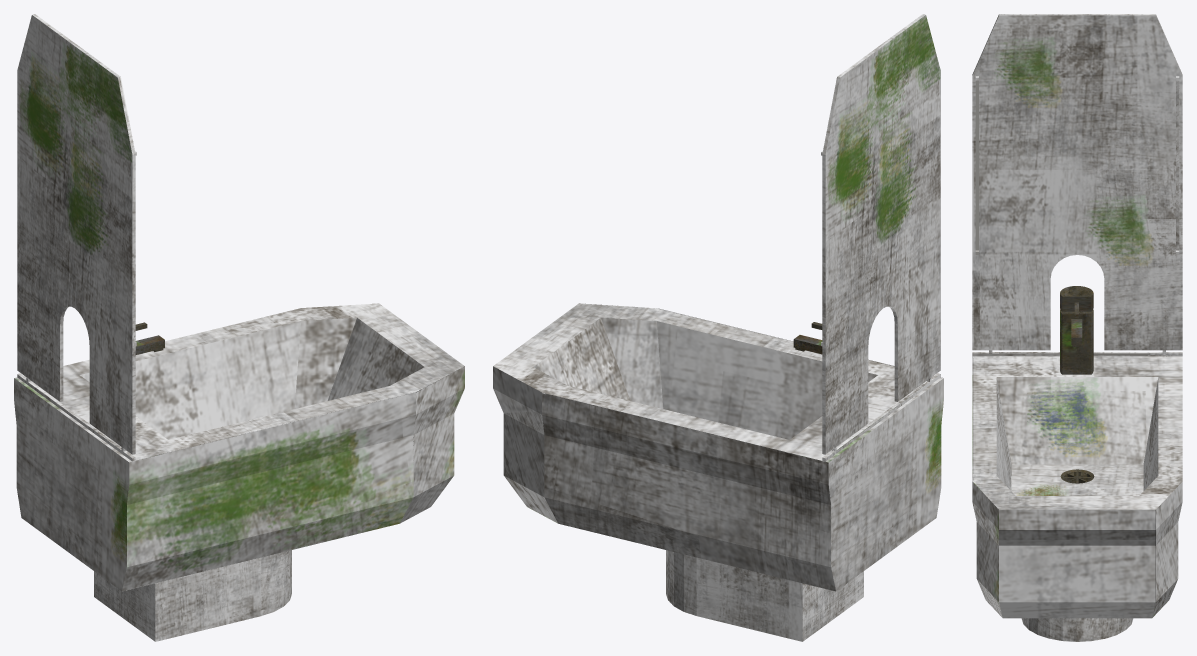
The model's file is Bide.FBX.
The picture shows the model from 3 angles, left to right: view 1: azimuth 30°, elevation 25°; view 2: azimuth 150°, elevation 25°; view 3: azimuth 270°, elevation 25°; orthographic projection. The views are drawn at different scales.
Parts seen in each view (by area): view 1: Bidé, Tapa, Apoyo; view 2: Bidé, Tapa, Apoyo; view 3: Tapa, Bidé, Grifo, Apoyo, Desague.
Part boxes in pixels (x1=…): Bidé: x1=14, y1=303, x2=464, y2=591; Tapa: x1=17, y1=14, x2=136, y2=461; Apoyo: x1=94, y1=550, x2=291, y2=641; Bidé: x1=493, y1=303, x2=943, y2=591; Tapa: x1=821, y1=14, x2=940, y2=461; Apoyo: x1=666, y1=550, x2=863, y2=641; Tapa: x1=972, y1=14, x2=1182, y2=356; Bidé: x1=972, y1=355, x2=1182, y2=618; Grifo: x1=1060, y1=286, x2=1093, y2=374; Apoyo: x1=1021, y1=618, x2=1133, y2=641; Desague: x1=1060, y1=469, x2=1094, y2=483.
Bounding box in the file's own units: 3.3 × 5.27 × 1.88.
5 materials, 5 textured.
